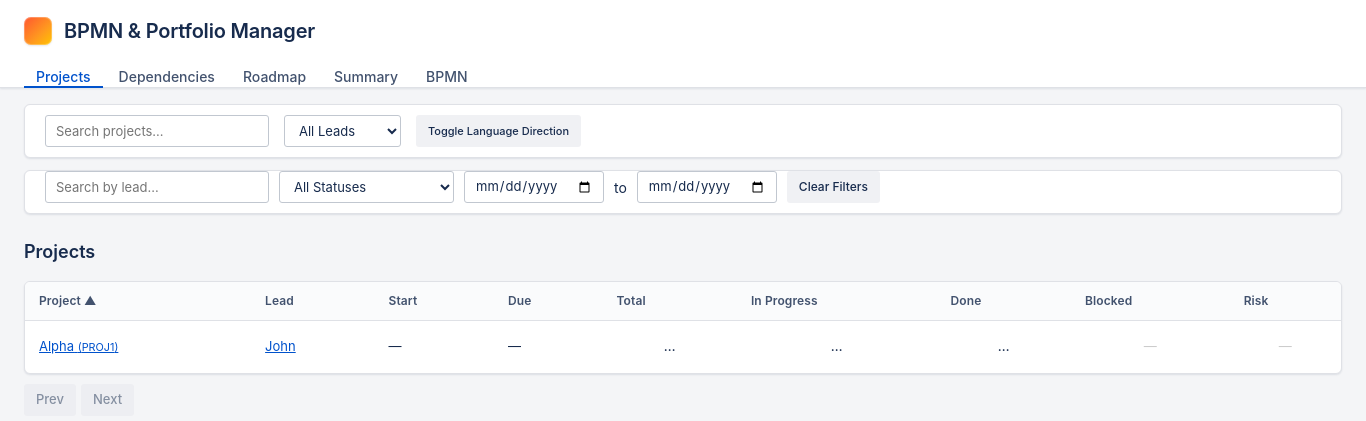
Test case: App › Roadmap tab › shows error banner on failure
This screenshot has width=1366, height=421.
Check: the button "Alpha (PROJ1)" is shown, box x1=39 y1=331 x2=118 y2=363
Click the tab "Roadmap".
click(274, 72)  # box x1=231 y1=56 x2=318 y2=88
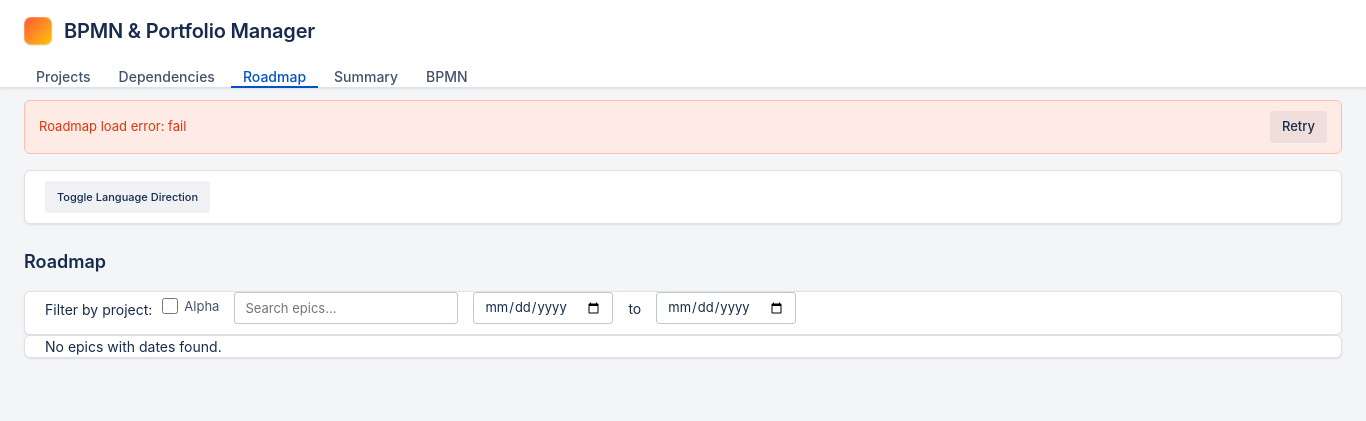
Check: the text "Roadmap load error: fail" is shown, box x1=39 y1=117 x2=186 y2=137
